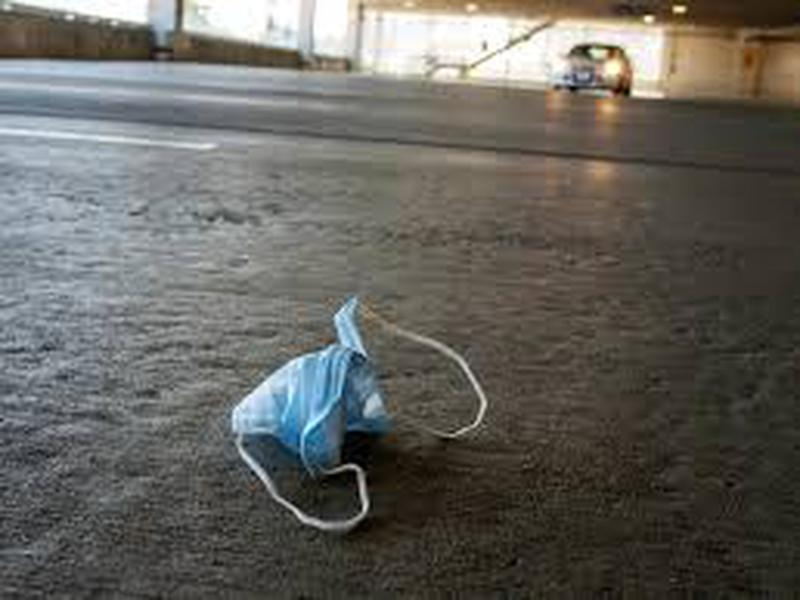mask: (220, 294, 491, 538)
